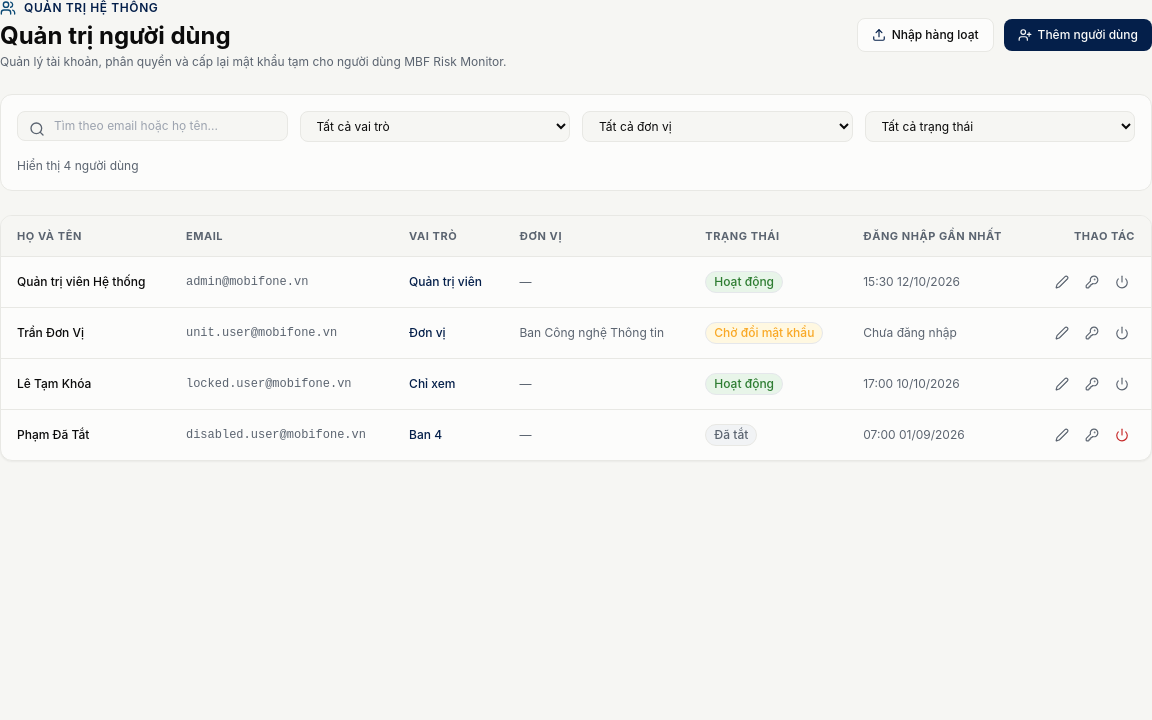
Scenario: UsersView › handles reset password action and displays one-time temporary password
Note: Click reset password on first user
Click the button named "Đặt lại mật khẩu" at (1092, 282), box [1079,269,1105,295]
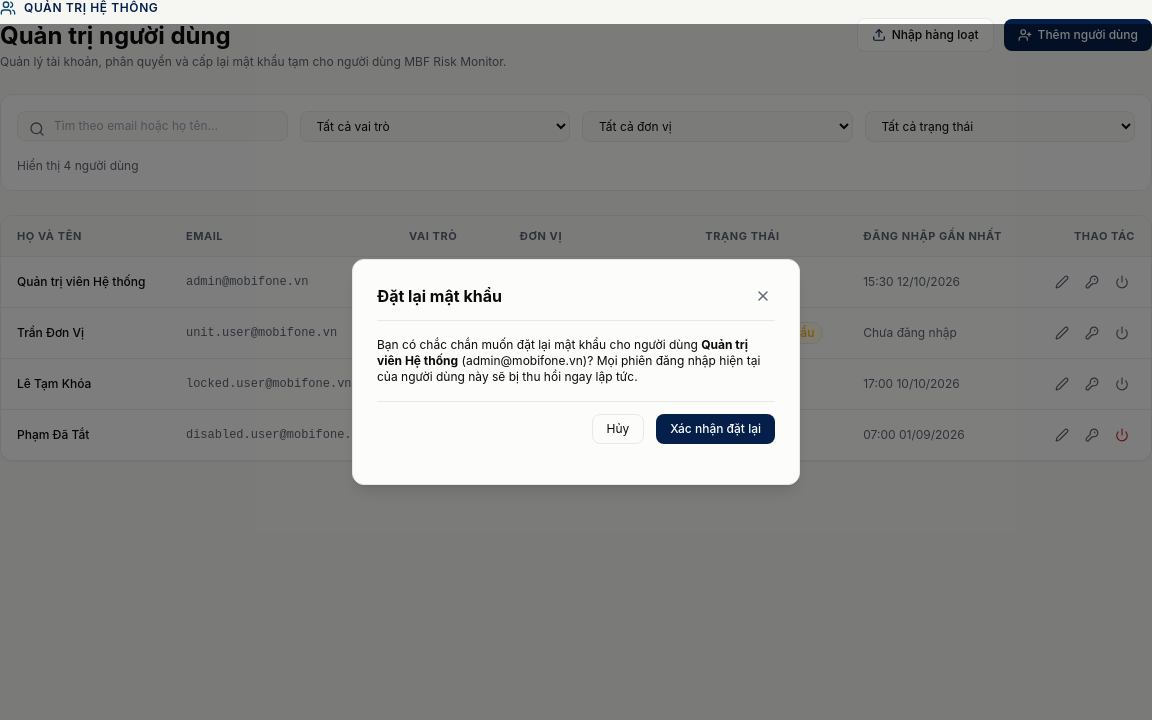
Now the text "Bạn có chắc chắn muốn đặt lại mật khẩu" is shown, box [377,337,698,352]
Click the button "Xác nhận đặt lại" at (716, 429), box [656,414,775,444]
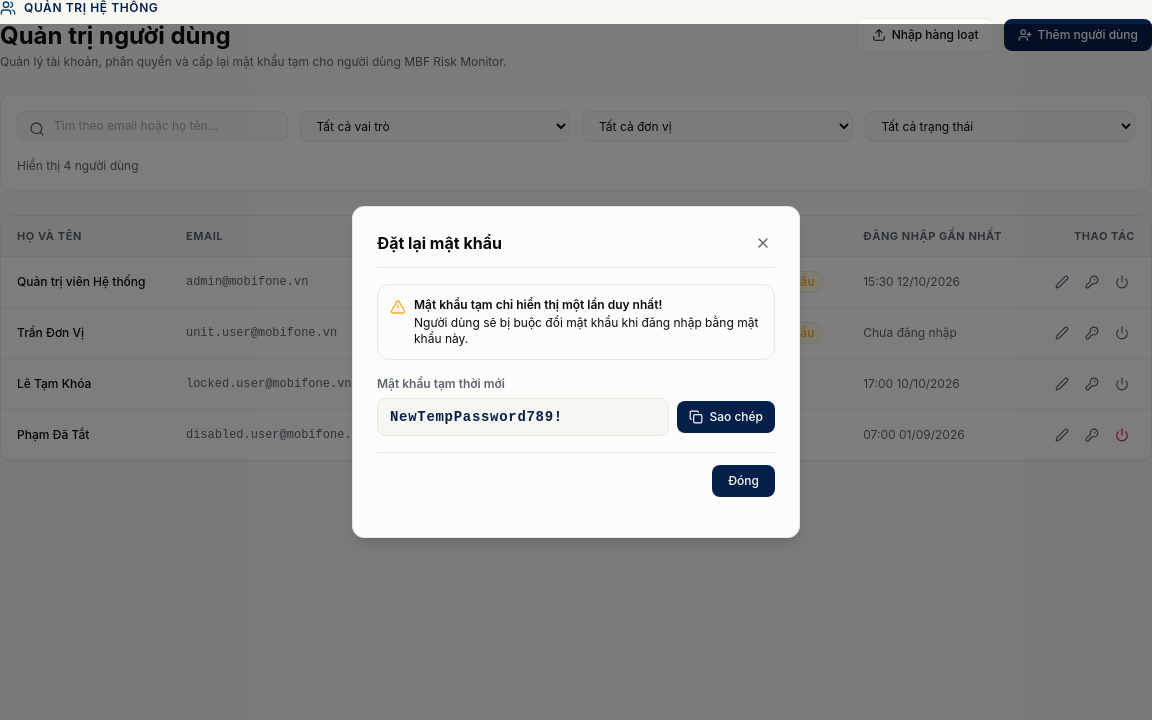
Now the text "NewTempPassword789!" is shown, box [377,398,669,436]
Now the text "Mật khẩu tạm chỉ hiển thị một lần duy nhất!" is shown, box [414,297,662,312]
